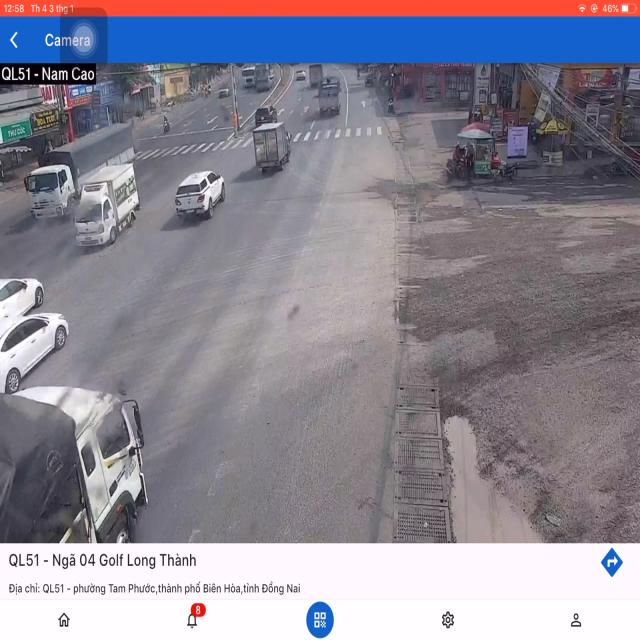car: (0, 312, 67, 394), (0, 274, 44, 337), (174, 168, 223, 224)
truck: (0, 382, 145, 542), (26, 120, 130, 212), (77, 162, 140, 249), (254, 122, 293, 177), (316, 75, 342, 116)
